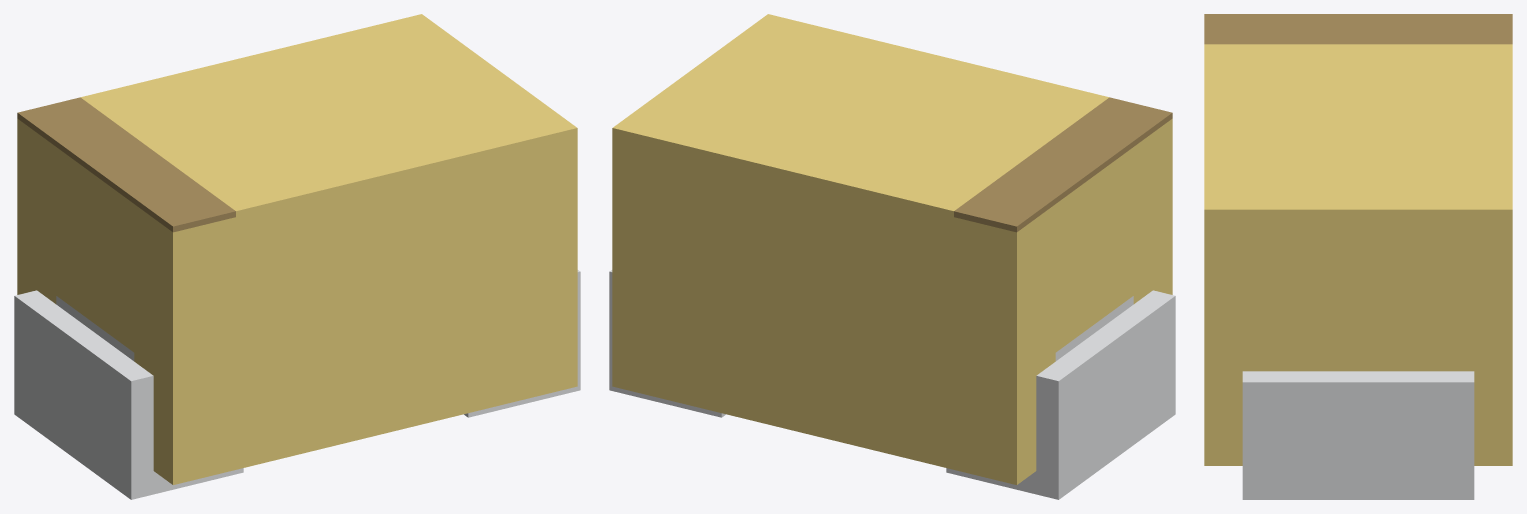
The model's file is tantalum_capacitor_2012_exaggerated.glb.
3 views of the same model, side by side, from view 1: azimuth 30°, elevation 25°; view 2: azimuth 150°, elevation 25°; view 3: azimuth 270°, elevation 25° (orthographic).
Parts seen in each view (by area): view 1: mould, lead_frame_L, band, lead_frame_R; view 2: mould, lead_frame_L, band, lead_frame_R; view 3: mould, lead_frame_R, band.
Part boxes in pixels (box(x1,y1,x2,y2)): mould: box(17, 14, 577, 484); lead_frame_L: box(14, 290, 243, 499); band: box(17, 97, 235, 232); lead_frame_R: box(464, 270, 580, 417); mould: box(612, 14, 1172, 484); lead_frame_L: box(946, 290, 1175, 499); band: box(954, 97, 1172, 232); lead_frame_R: box(609, 270, 725, 417); mould: box(1204, 44, 1512, 465); lead_frame_R: box(1242, 371, 1474, 499); band: box(1204, 14, 1512, 44).
Bounding box in the file's own units: 2 × 1.2 × 1.2.
